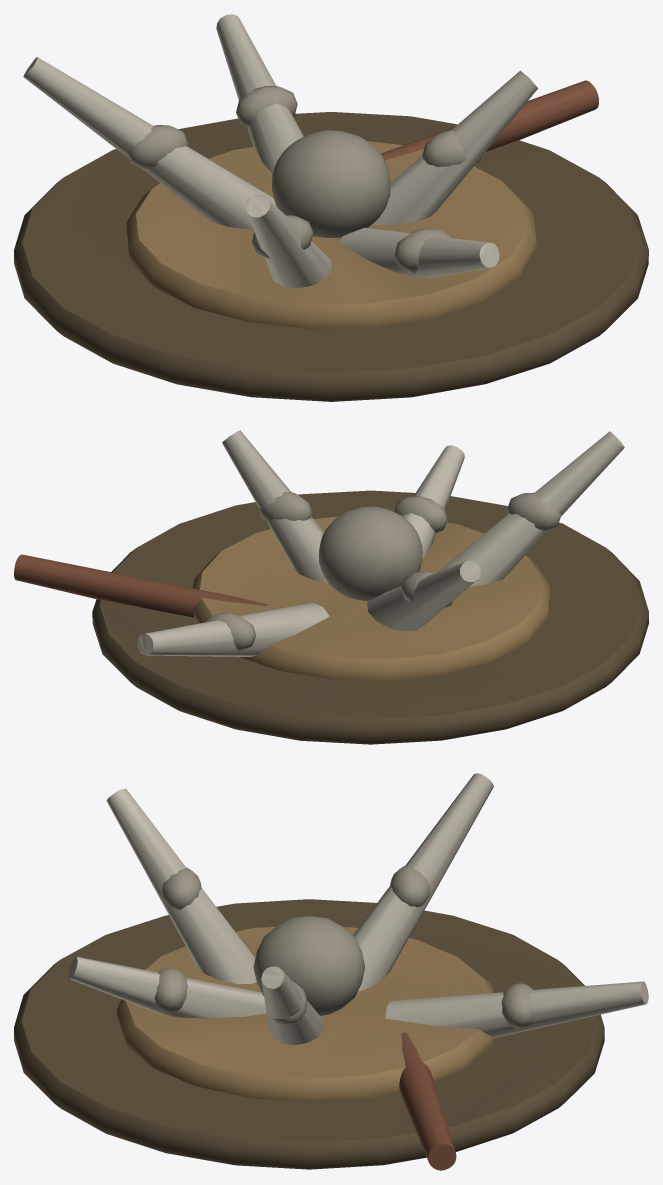
The model's file is fulgurite_c.glb.
3 renders of one model, top to bottom at view 1: azimuth 30°, elevation 25°; view 2: azimuth 150°, elevation 25°; view 3: azimuth 270°, elevation 25°, orthographic. The views are drawn at different scales.
Parts seen in each view (by area): view 1: Surface; view 2: Surface; view 3: Surface.
Boxes of the visible parts, bbox=[...] form: Surface: bbox=[14, 14, 648, 401]; Surface: bbox=[14, 430, 648, 744]; Surface: bbox=[14, 773, 648, 1170].
Bounding box in the file's own units: 2.21 × 0.6813 × 2.15.
